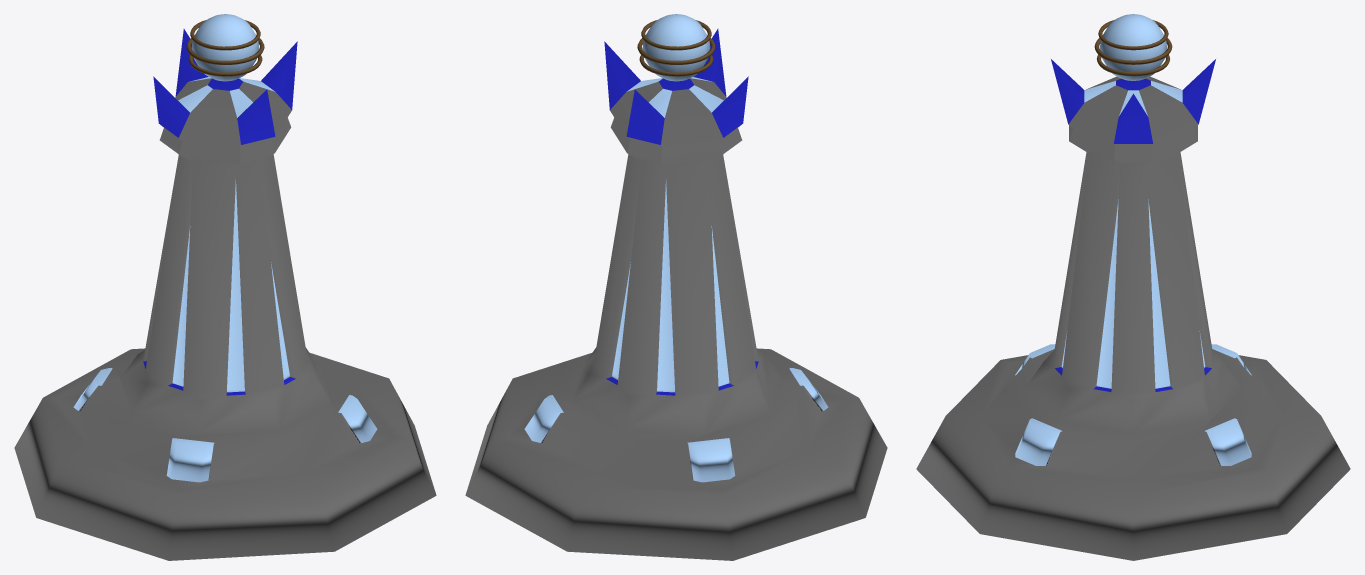
The model's file is ChainPylon.fbx.
3 views of the same model, side by side, from view 1: azimuth 30°, elevation 25°; view 2: azimuth 150°, elevation 25°; view 3: azimuth 270°, elevation 25° (orthographic).
Parts seen in each view (by area): view 1: ChainPylonBody, Conductor, ElectricSphere; view 2: ChainPylonBody, Conductor, ElectricSphere; view 3: ChainPylonBody, Conductor, ElectricSphere.
Boxes of the visible parts, box(x1,y1,x2,y2) form: ChainPylonBody: box(14, 29, 436, 560); Conductor: box(191, 14, 259, 81); ElectricSphere: box(186, 20, 264, 76); ChainPylonBody: box(465, 29, 887, 560); Conductor: box(642, 14, 710, 81); ElectricSphere: box(637, 20, 715, 76); ChainPylonBody: box(916, 59, 1350, 560); Conductor: box(1100, 14, 1166, 80); ElectricSphere: box(1094, 20, 1172, 76).
Bounding box in the file's own units: 2.31 × 2.31 × 2.65.
Materials: 3 (3 with a texture image).
